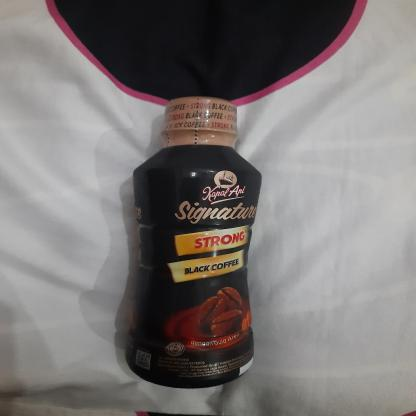bottle: (122, 95, 263, 392)
